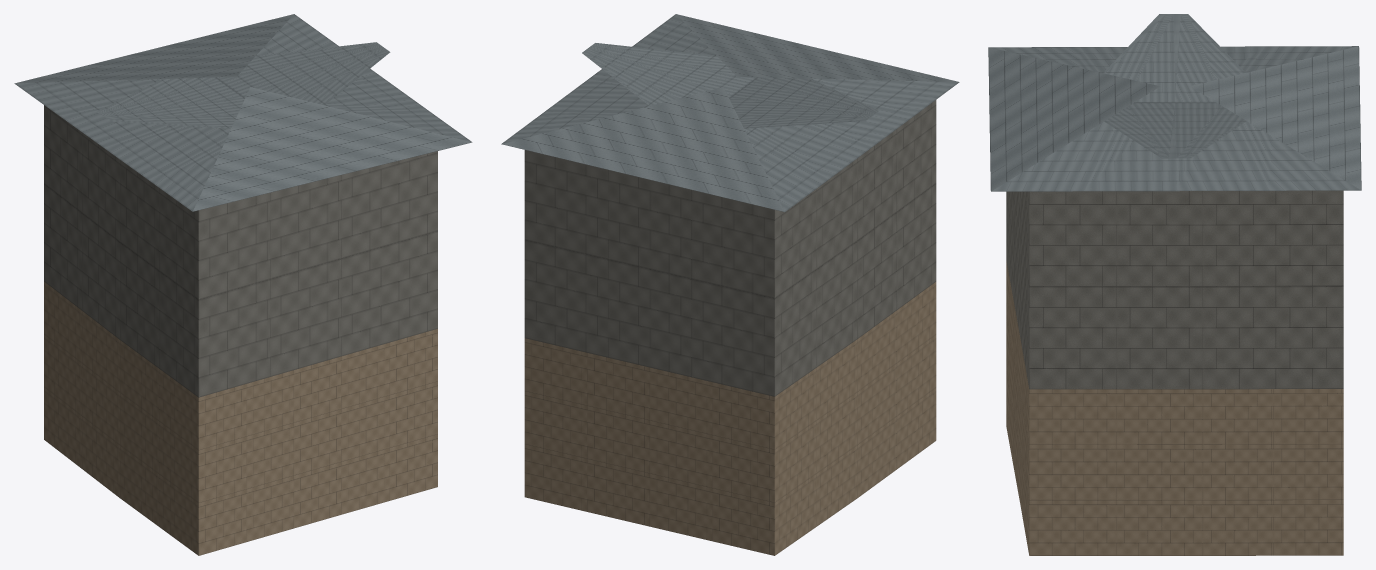
Rendered from bld_c15_11_515.gltf.
3 renders of one model, left to right at view 1: azimuth 30°, elevation 25°; view 2: azimuth 150°, elevation 25°; view 3: azimuth 270°, elevation 25°, orthographic. The views are drawn at different scales.
Visible parts, largest first — view 1: bld_c15_11_515; view 2: bld_c15_11_515; view 3: bld_c15_11_515.
Part boxes in pixels (<box>): bld_c15_11_515: <box>14,14,472,555</box>; bld_c15_11_515: <box>501,14,959,555</box>; bld_c15_11_515: <box>988,14,1361,555</box>.
Bounding box in the file's own units: 9.56 × 12.4 × 10.35.
Materials: 3 (3 with a texture image).
